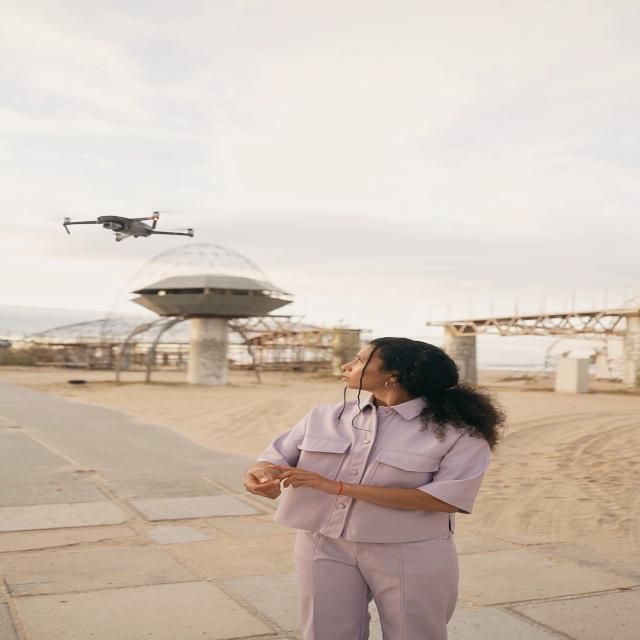Drone: (54, 209, 200, 250)
